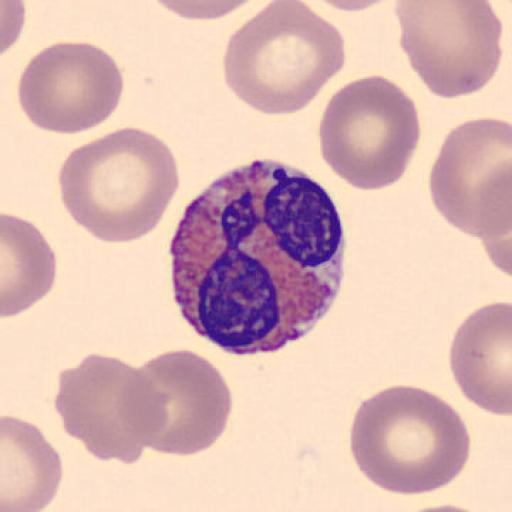RBC: (58, 125, 181, 245), (221, 0, 348, 116), (348, 384, 471, 498), (53, 352, 166, 466), (318, 74, 422, 194), (128, 348, 233, 458), (394, 0, 503, 100), (16, 40, 125, 136), (428, 116, 512, 236), (448, 300, 512, 418), (1, 414, 64, 511), (2, 212, 58, 318), (475, 160, 512, 281), (147, 0, 267, 21), (0, 0, 28, 59), (302, 0, 401, 13), (393, 503, 497, 512)
WBC: (166, 157, 348, 358)
